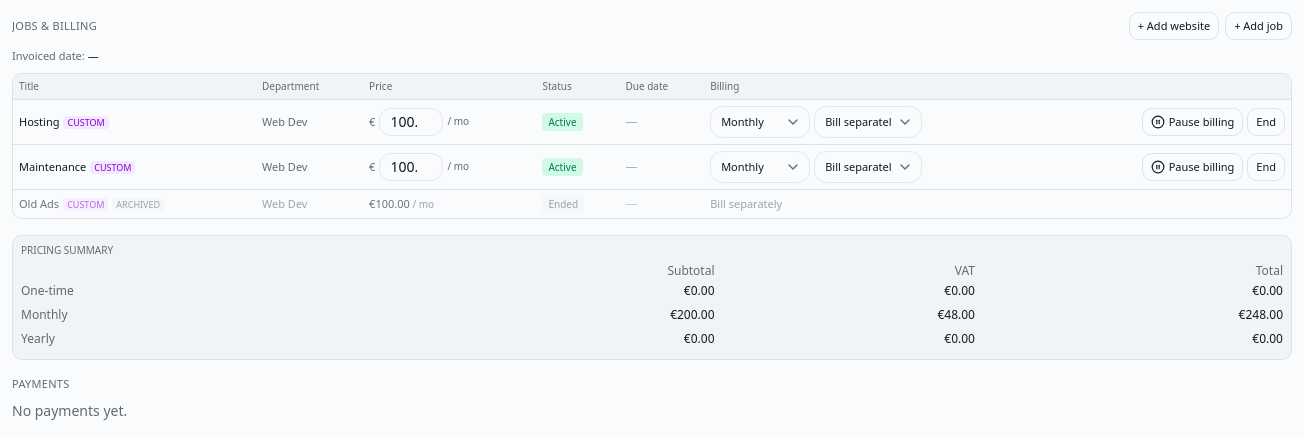
Scenario: JobsBillingPanel archived services › does not offer an archived same-cadence service as a pairing target
Click the dropdown named "billing" at {"x": 868, "y": 122}, box [814,106,922,138]
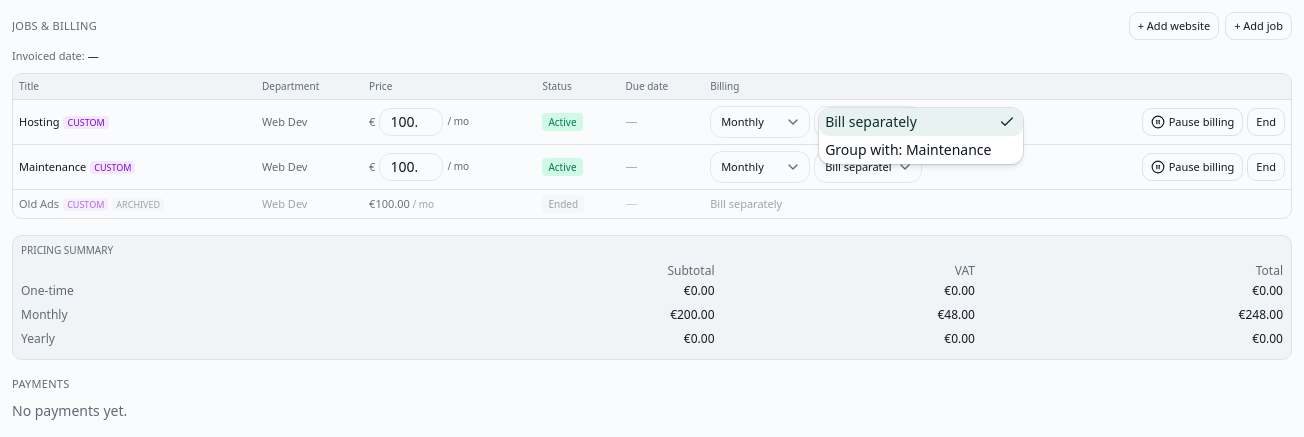
Check: the option "Group with: Maintenance" is shown, box [825,140,991,159]
